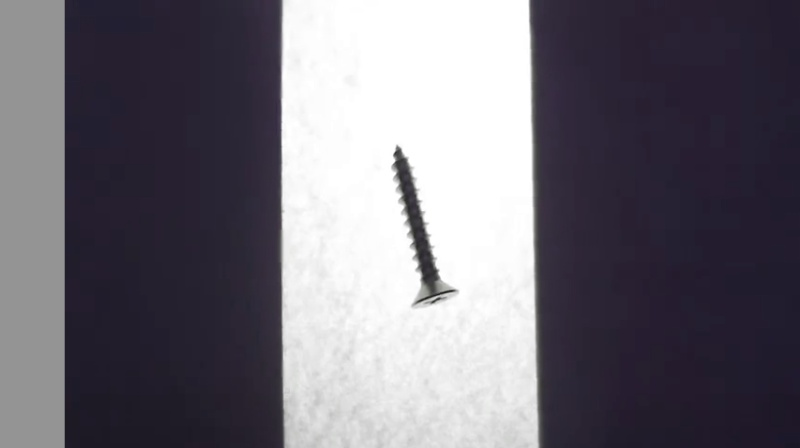S001: (386, 138, 464, 315)
